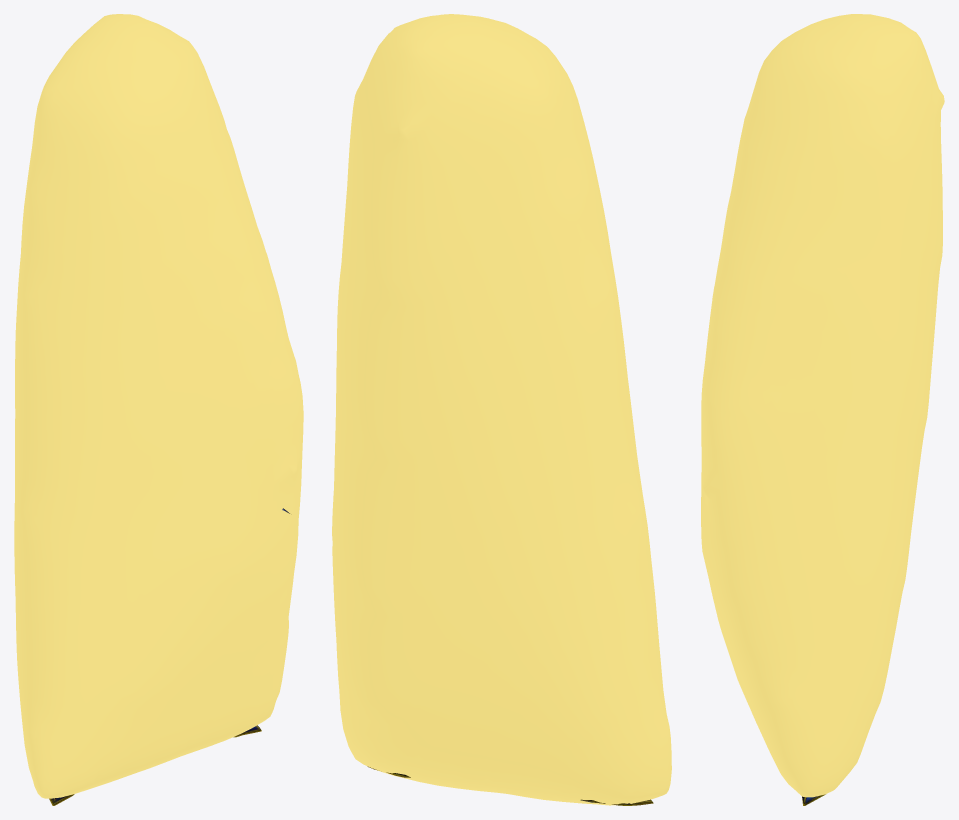
The model's file is body-custom.glb.
The picture shows the model from 3 angles, left to right: view 1: azimuth 30°, elevation 25°; view 2: azimuth 150°, elevation 25°; view 3: azimuth 270°, elevation 25°; orthographic projection. The views are drawn at different scales.
Parts seen in each view (by area): view 1: aura; view 2: aura; view 3: aura.
Part boxes in pixels (bbox=[...]): aura: bbox=[14, 14, 303, 798]; aura: bbox=[332, 14, 671, 805]; aura: bbox=[701, 14, 944, 797].
Bounding box in the file's own units: 0.4837 × 1.22 × 0.3693.
2 materials, 1 textured.
